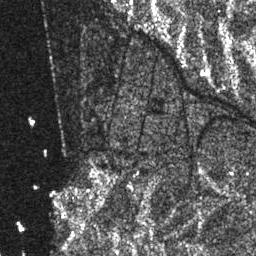ship: (16, 221, 24, 231), (28, 116, 35, 127), (43, 148, 48, 157)
